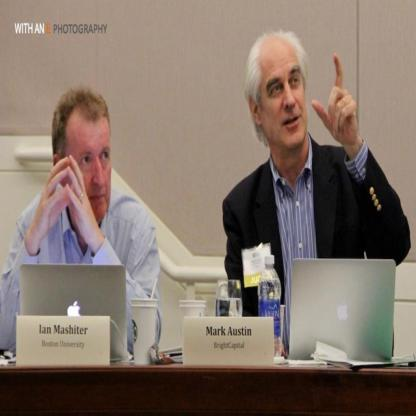board: (284, 260, 400, 367), (20, 260, 129, 362), (258, 256, 282, 362)
